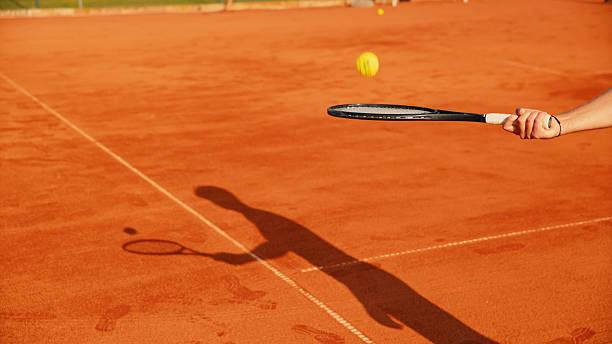ball_tennis: (356, 51, 380, 77), (376, 8, 384, 16)
